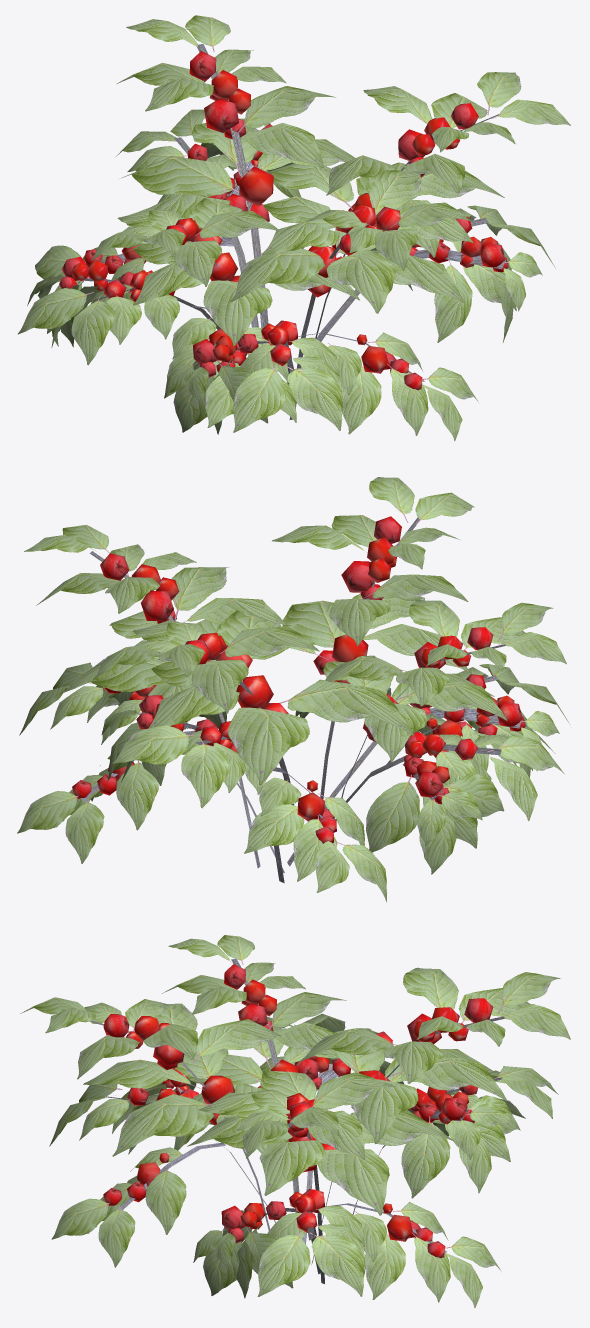
The model's file is PW_Plant_Bush_01_05.fbx.
3 views of the same model, one above another, from view 1: azimuth 30°, elevation 25°; view 2: azimuth 150°, elevation 25°; view 3: azimuth 270°, elevation 25° (orthographic). The views are drawn at different scales.
Parts seen in each view (by area): view 1: PW_Plants_Bushes_5_LOD0; view 2: PW_Plants_Bushes_5_LOD0; view 3: PW_Plants_Bushes_5_LOD0.
Part boxes in pixels (x1,y1,x2,y2): PW_Plants_Bushes_5_LOD0: (18, 15, 570, 441); PW_Plants_Bushes_5_LOD0: (17, 477, 569, 902); PW_Plants_Bushes_5_LOD0: (20, 935, 570, 1307).
Size of what is drawn, in the model's own units: 105 by 59.95 by 104.
